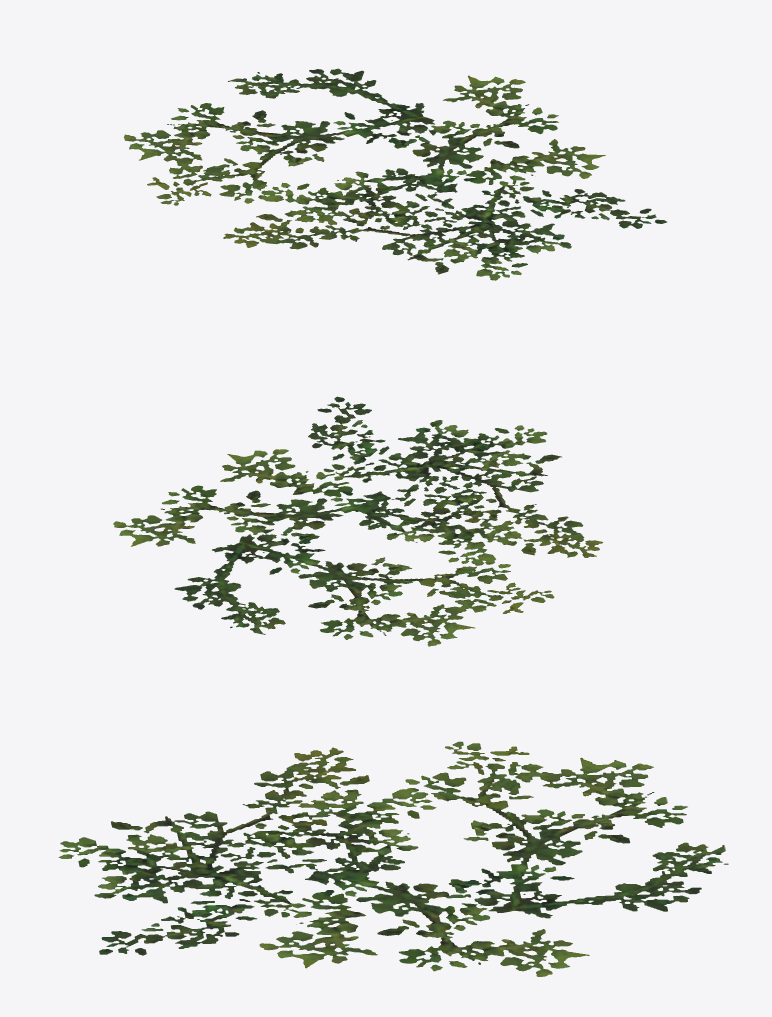
The model's file is environment_Tree_red_002_a_3.fbx.
The picture shows the model from 3 angles, top to bottom: view 1: azimuth 30°, elevation 25°; view 2: azimuth 150°, elevation 25°; view 3: azimuth 270°, elevation 25°; orthographic projection. The views are drawn at different scales.
Visible parts, largest first — view 1: polySurface100; view 2: polySurface100; view 3: polySurface100.
Boxes of the visible parts, x1=… form: polySurface100: x1=124, y1=68, x2=666, y2=280; polySurface100: x1=113, y1=396, x2=602, y2=646; polySurface100: x1=58, y1=741, x2=728, y2=976.
Bounding box in the file's own units: 159 × 0.494 × 170.
